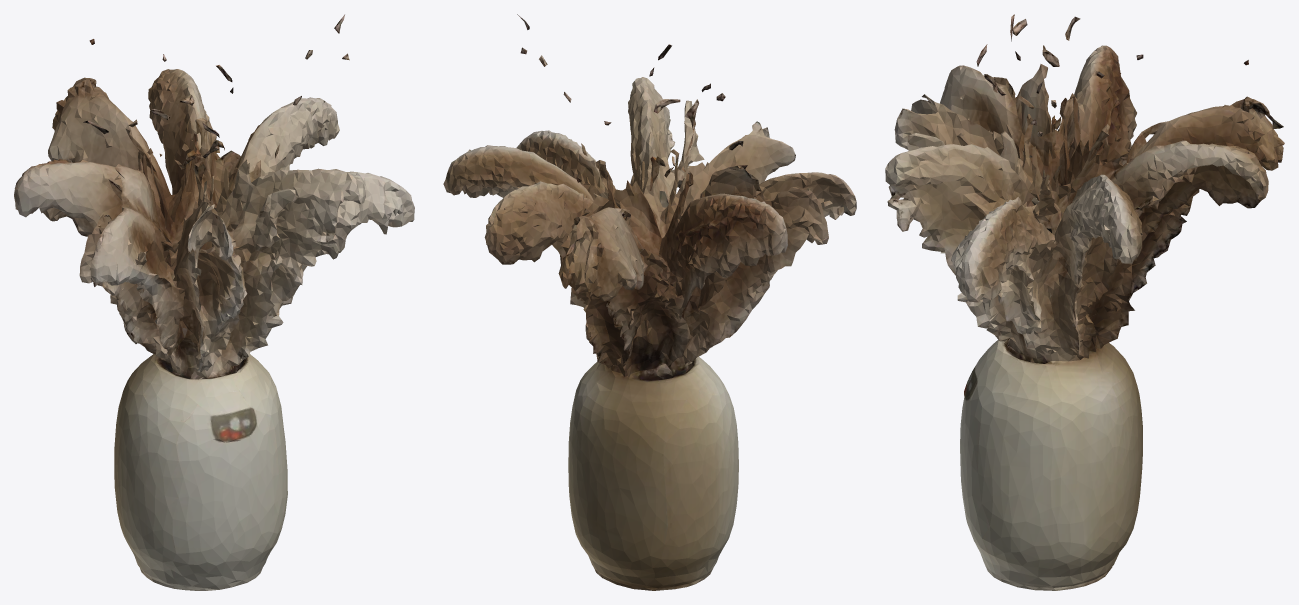
File: ast_c708e898e8ab.glb
3 views of the same model, side by side, from view 1: azimuth 30°, elevation 25°; view 2: azimuth 150°, elevation 25°; view 3: azimuth 270°, elevation 25° (orthographic). The views are drawn at different scales.
Visible parts, largest first — view 1: geometry_0; view 2: geometry_0; view 3: geometry_0.
Boxes of the visible parts, box(x1,y1,x2,y2) form: geometry_0: box(14, 14, 414, 590); geometry_0: box(443, 14, 856, 590); geometry_0: box(885, 14, 1284, 590).
Size of the model in its own units: 0.6693 by 0.9886 by 0.6447.
Materials: 1 (1 with a texture image).
